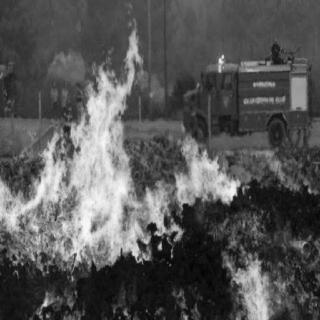Fire: (9, 17, 273, 315)
